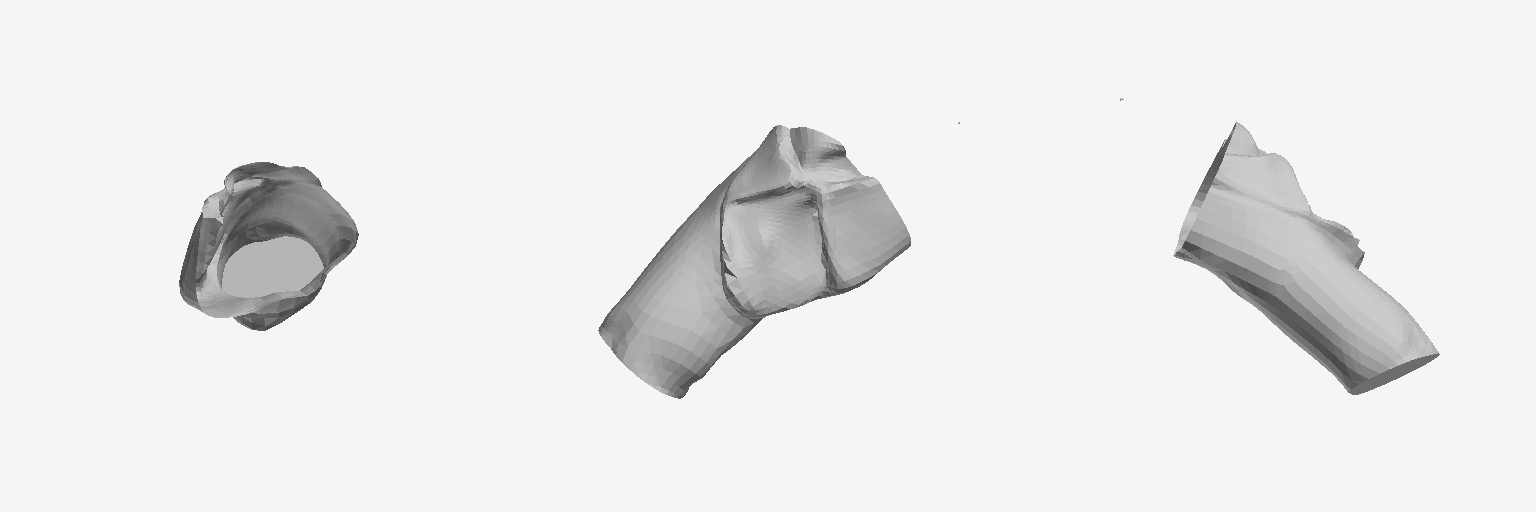
File: jambe_gauche.obj
3 renders of one model, left to right at view 1: azimuth 30°, elevation 25°; view 2: azimuth 150°, elevation 25°; view 3: azimuth 270°, elevation 25°, orthographic.
Parts seen in each view (by area): view 1: 15548_French_Horseman_v1.002_15548_French_Horseman_v1.047; view 2: 15548_French_Horseman_v1.002_15548_French_Horseman_v1.047; view 3: 15548_French_Horseman_v1.002_15548_French_Horseman_v1.047.
Part boxes in pixels (left/top/right/bottom): 15548_French_Horseman_v1.002_15548_French_Horseman_v1.047: left=179, top=162, right=358, bottom=330; 15548_French_Horseman_v1.002_15548_French_Horseman_v1.047: left=598, top=122, right=959, bottom=398; 15548_French_Horseman_v1.002_15548_French_Horseman_v1.047: left=1120, top=98, right=1439, bottom=394.
Bounding box in the file's own units: 1.78 × 1.75 × 2.19.